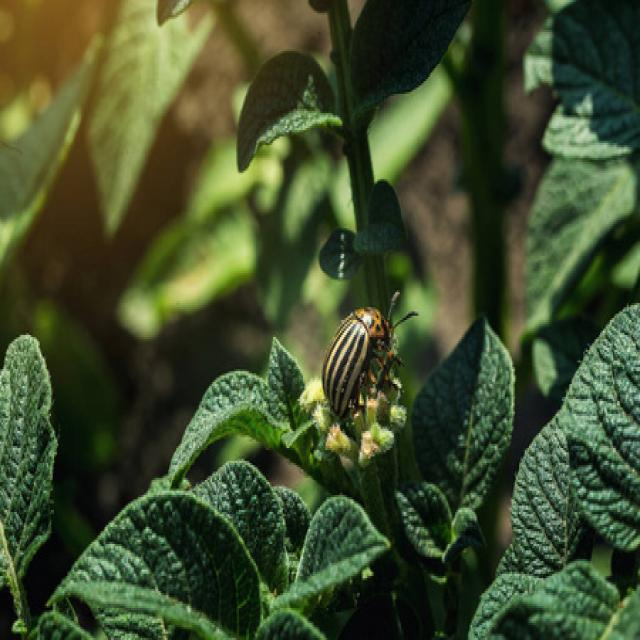ShuCaiHuaBanChong-Grown-: (313, 291, 405, 440)
